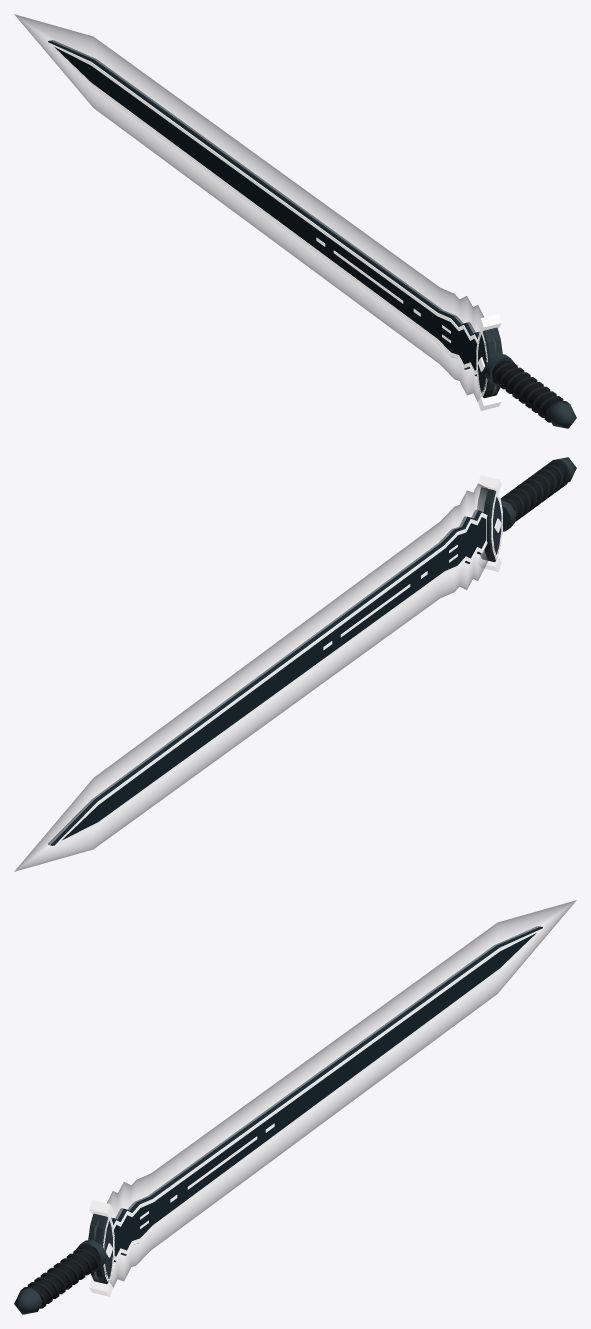
The model's file is schwert.glb.
The picture shows the model from 3 angles, top to bottom: view 1: azimuth 30°, elevation 25°; view 2: azimuth 150°, elevation 25°; view 3: azimuth 330°, elevation 25°; orthographic projection.
Size of the model in its own units: 0.0347 by 0.127 by 1.29.
